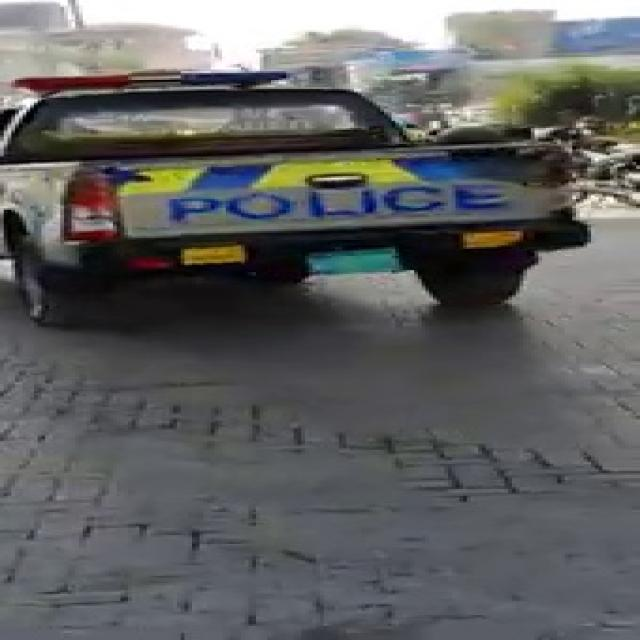ambulance: (14, 82, 561, 294)
